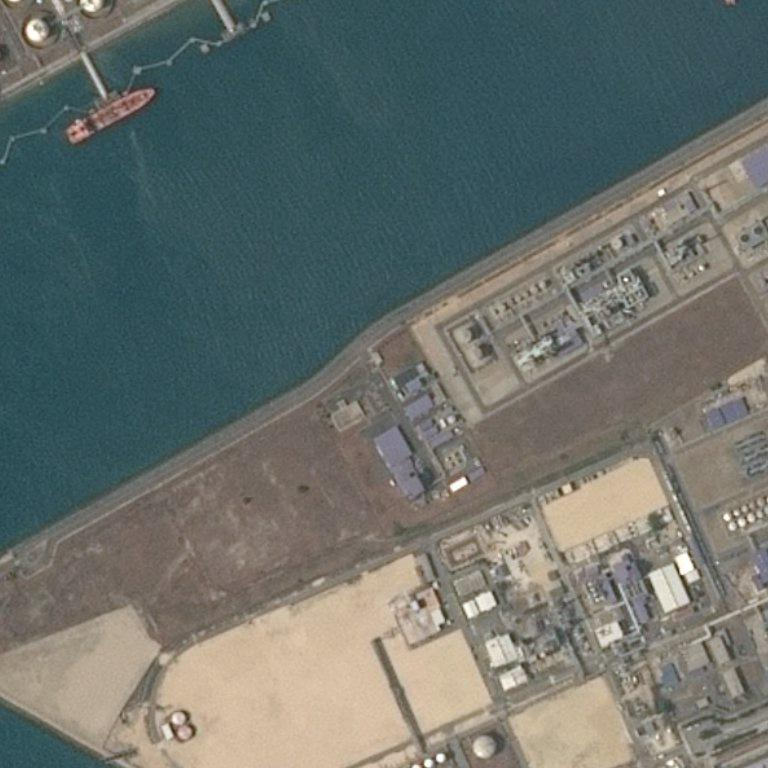ship: (24, 8, 43, 70), (151, 87, 157, 95), (64, 127, 70, 133), (71, 139, 77, 144)
